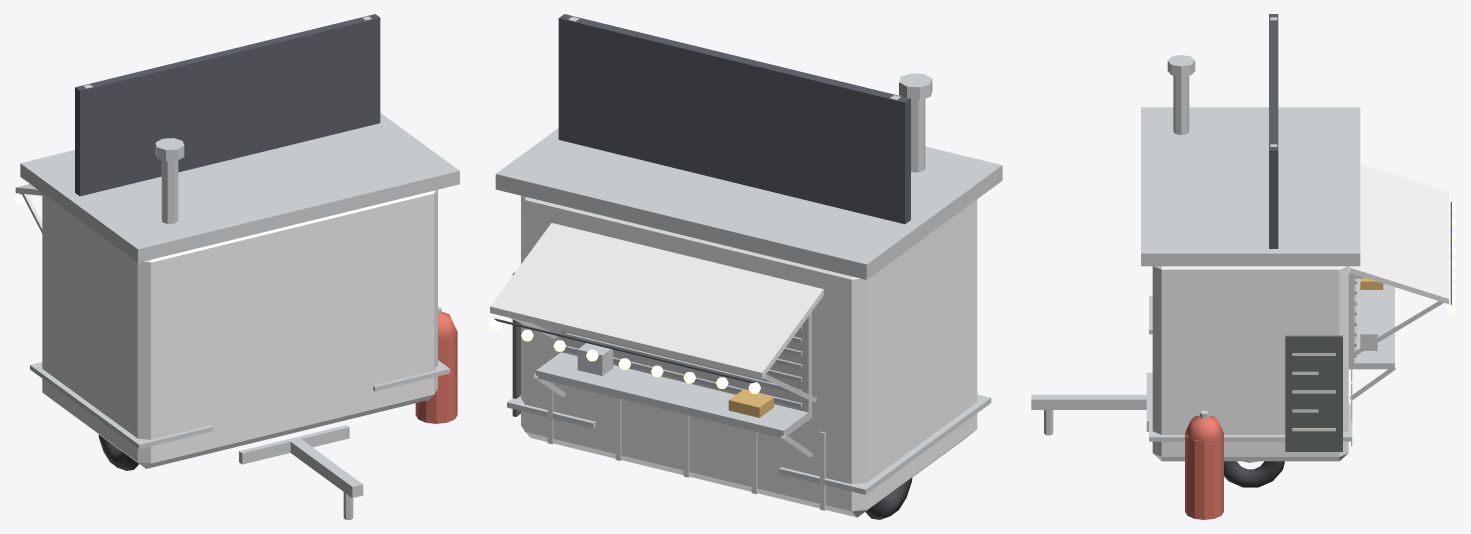
Rendered from food_cart.glb.
3 views of the same model, side by side, from view 1: azimuth 30°, elevation 25°; view 2: azimuth 150°, elevation 25°; view 3: azimuth 270°, elevation 25° (orthographic). The views are drawn at different scales.
Parts seen in each view (by area): view 1: fc_cart_paint_mesh, fc_cart_trim_mesh; view 2: fc_cart_trim_mesh, fc_cart_paint_mesh, fc_cart_shutter_mesh; view 3: fc_cart_trim_mesh, fc_cart_paint_mesh.
Boxes of the visible parts, x1,y1,x2,y2 form: fc_cart_paint_mesh: (15, 184, 437, 468); fc_cart_trim_mesh: (14, 14, 459, 519); fc_cart_trim_mesh: (488, 14, 1002, 519); fc_cart_paint_mesh: (490, 195, 977, 517); fc_cart_shutter_mesh: (566, 325, 802, 409); fc_cart_trim_mesh: (1031, 14, 1456, 519); fc_cart_paint_mesh: (1152, 164, 1448, 461).
Bounding box in the file's own units: 3.27 × 3.36 × 3.68.
